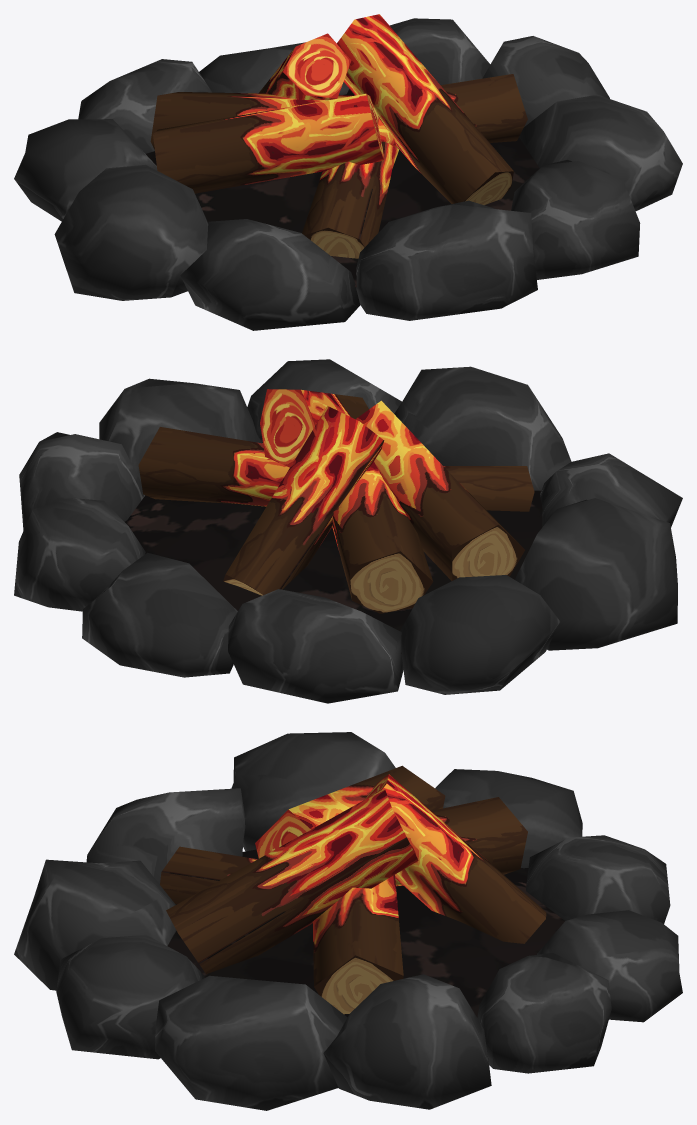
Rendered from SM_PROP_campfire_dungeon_01.fbx.
3 views of the same model, one above another, from view 1: azimuth 30°, elevation 25°; view 2: azimuth 150°, elevation 25°; view 3: azimuth 270°, elevation 25° (orthographic). The views are drawn at different scales.
Parts seen in each view (by area): view 1: SM_PROP_campfire_dungeon_01; view 2: SM_PROP_campfire_dungeon_01; view 3: SM_PROP_campfire_dungeon_01.
Boxes of the visible parts, bbox=[...] form: SM_PROP_campfire_dungeon_01: bbox=[14, 14, 682, 330]; SM_PROP_campfire_dungeon_01: bbox=[14, 359, 682, 703]; SM_PROP_campfire_dungeon_01: bbox=[14, 732, 682, 1110].
Bounding box in the file's own units: 89.91 × 26.97 × 83.59.
